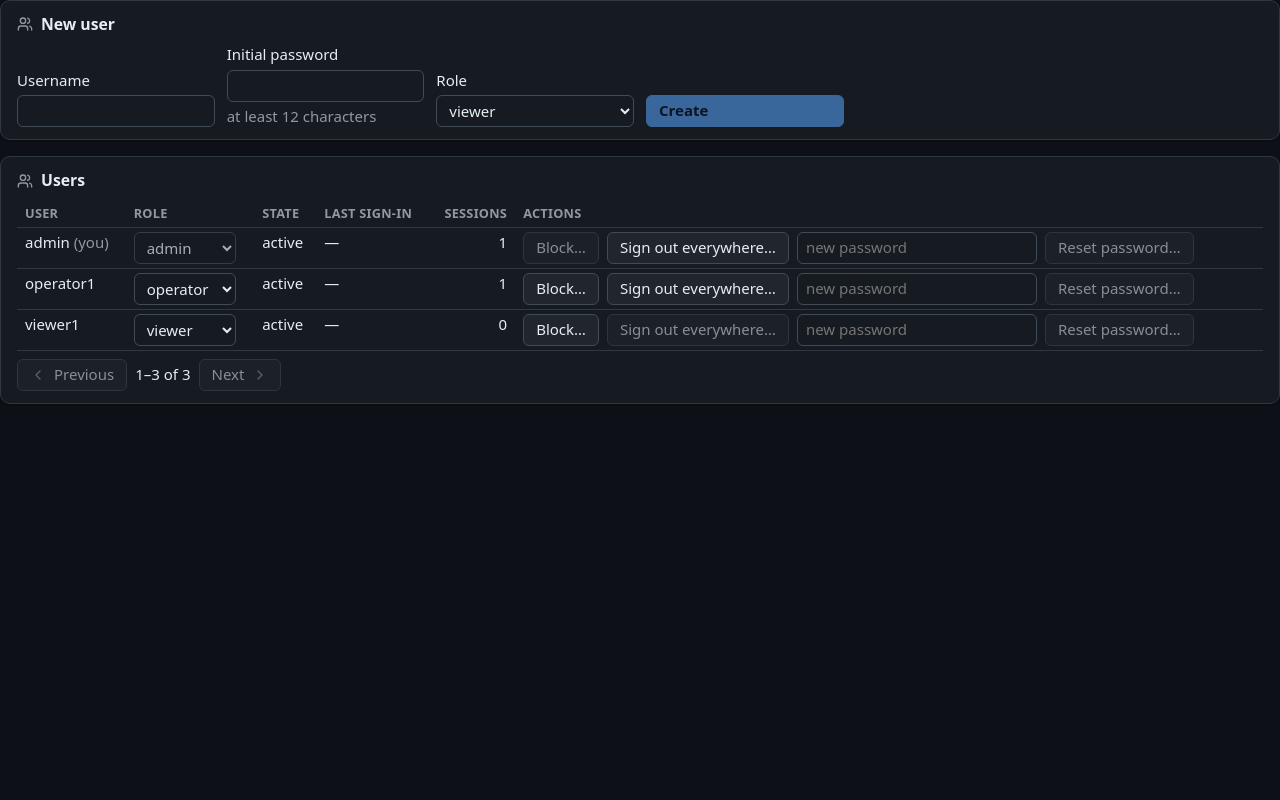
UsersScreen › resets a password only once it is long enough
Type "too-short" into the password field named "New password for operator1" at (917, 289), box [797, 273, 1037, 305]
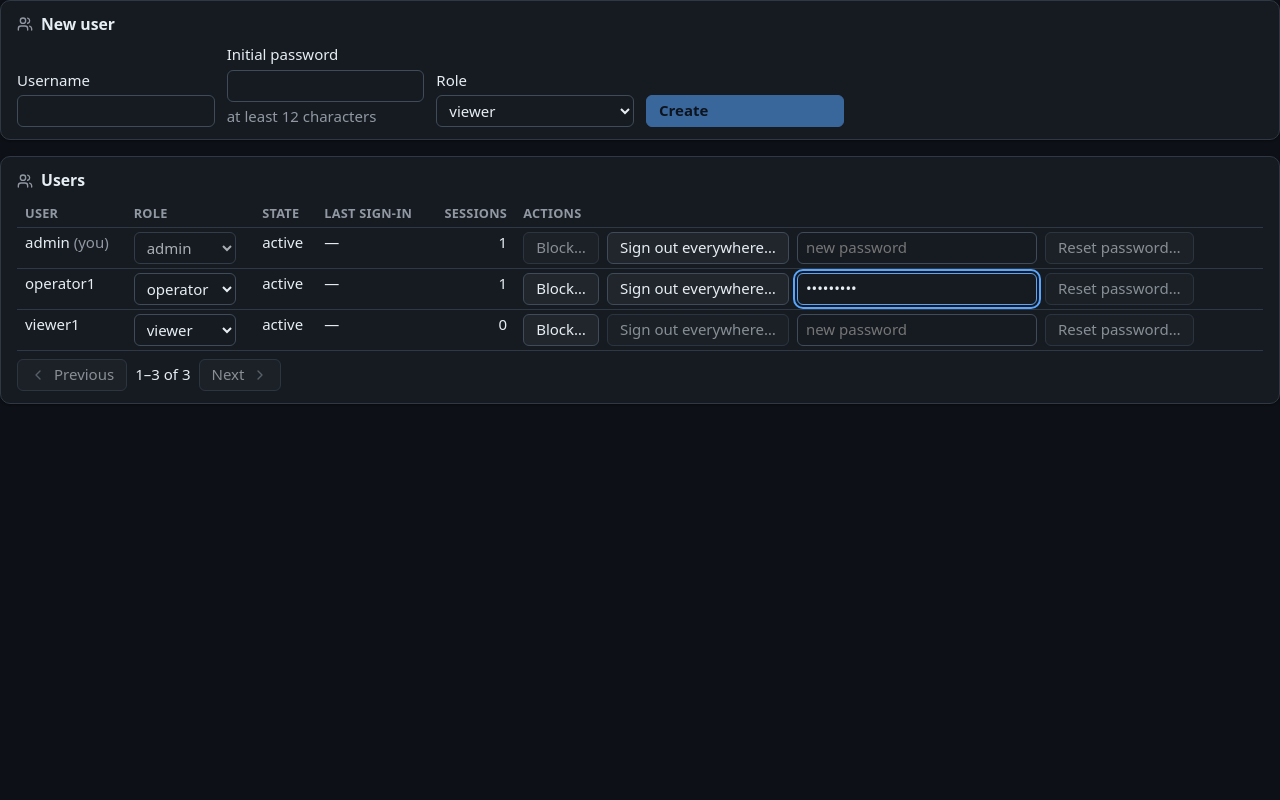
Expected: the button "Reset password…" in the row of "operator1" is disabled, [1045, 273, 1194, 305]
Type "Harbour-Lantern-42" into the password field named "New password for operator1" at (917, 289), box [797, 273, 1037, 305]
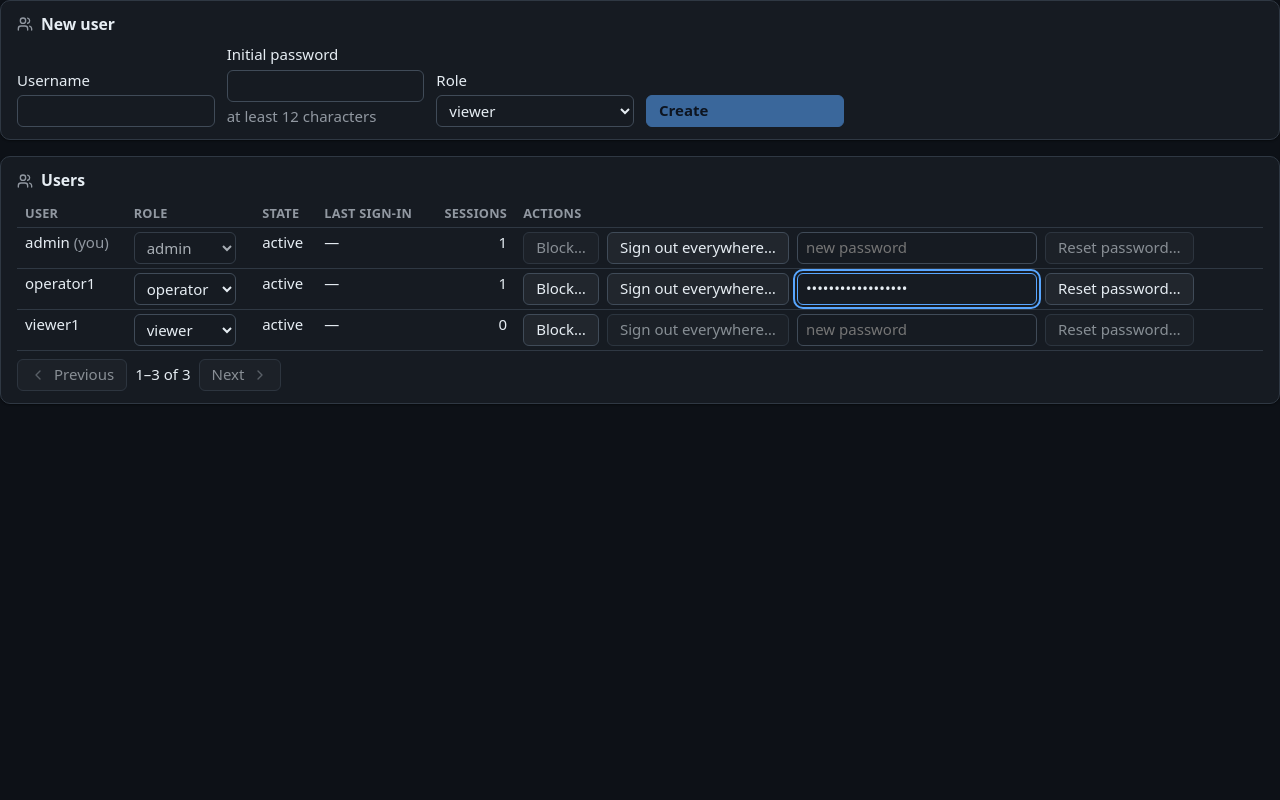
Click the button "Reset password…" in the row of "operator1" at (1119, 289), box [1045, 273, 1194, 305]
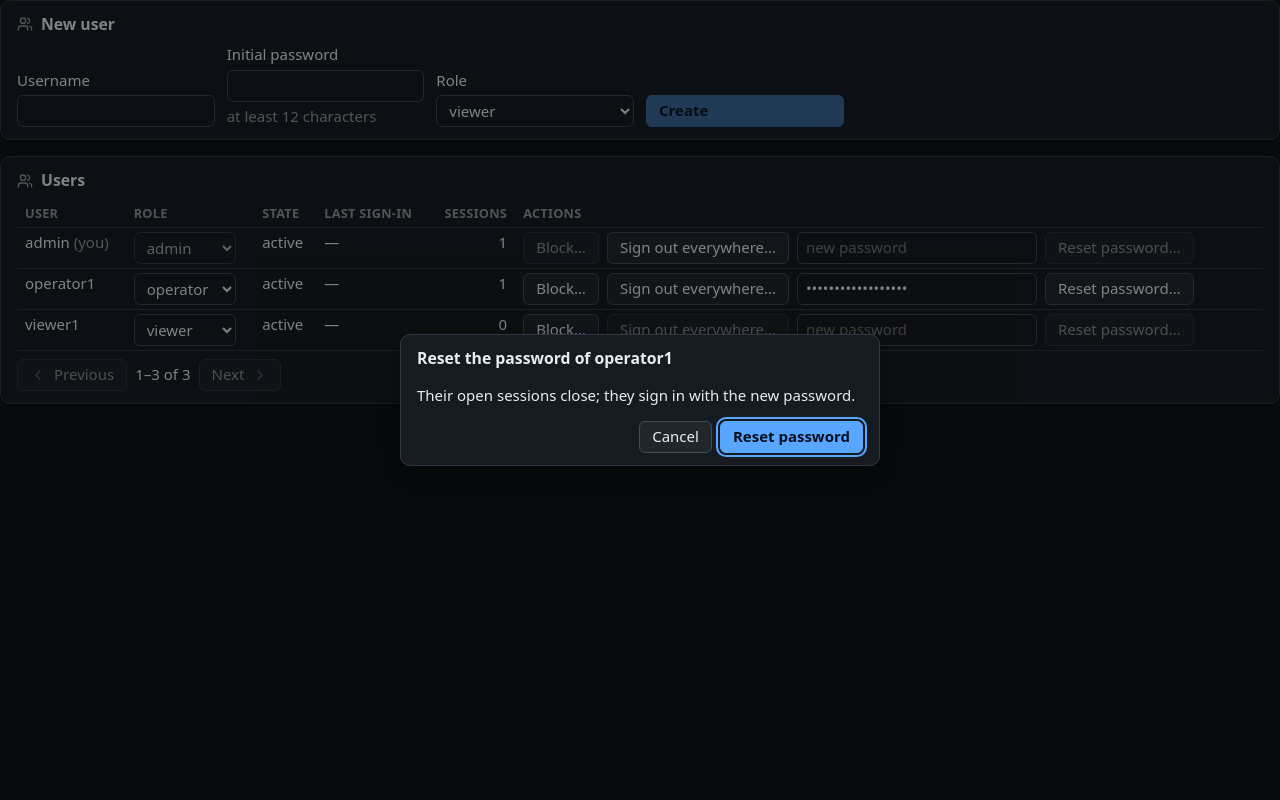
Click the button "Reset password" at (791, 437), box [720, 421, 863, 453]
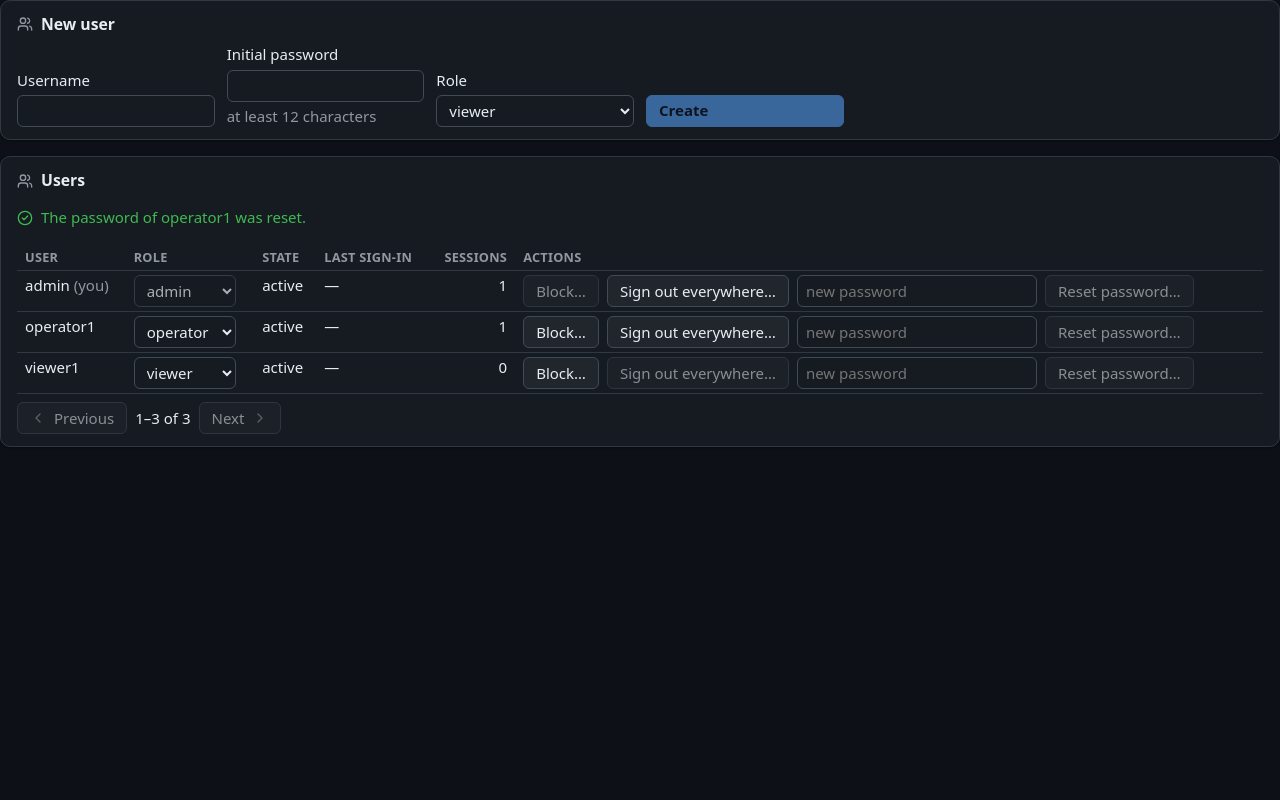
Expected: the message reads "The password of operator1 was reset.", [41, 207, 306, 227]
